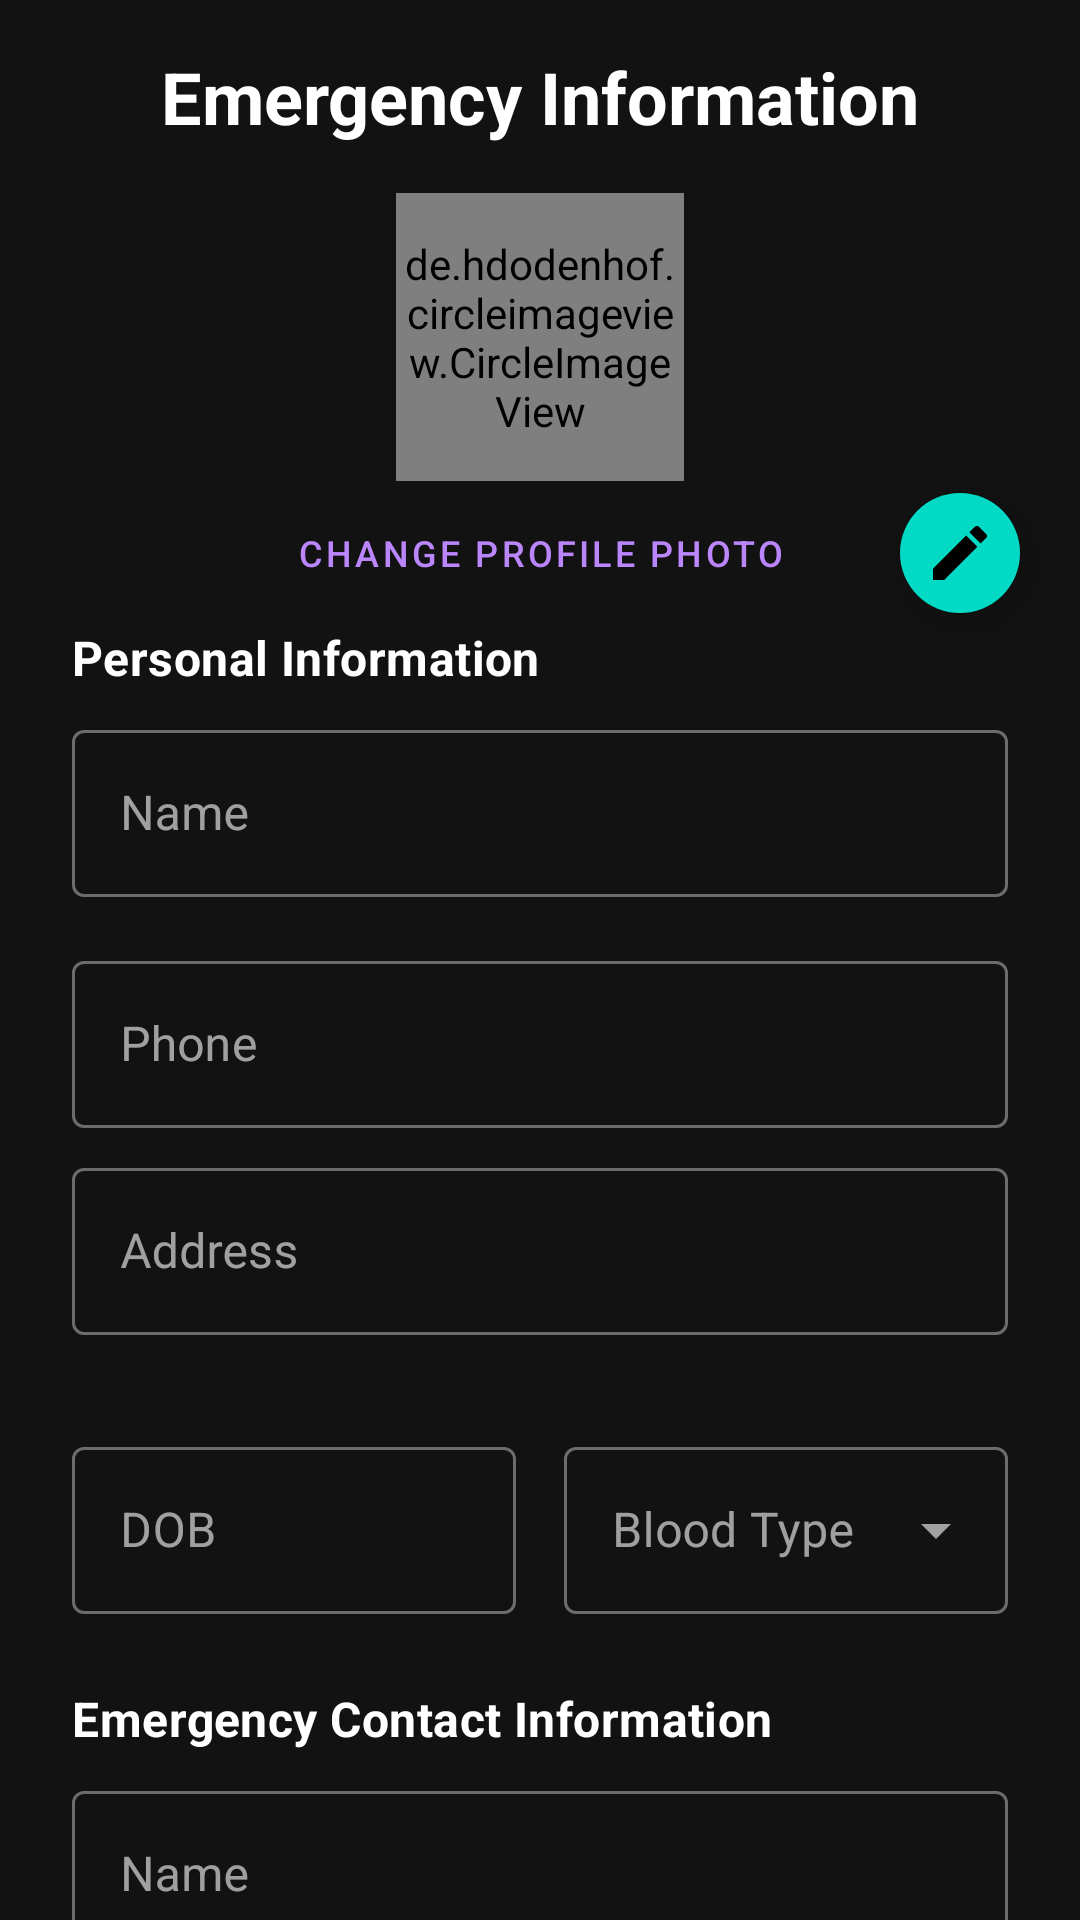

Icons on this 1080x1920 Android screen, each with the point to tap as point (x, y):
Edit/Save Profile: point (960, 553)
